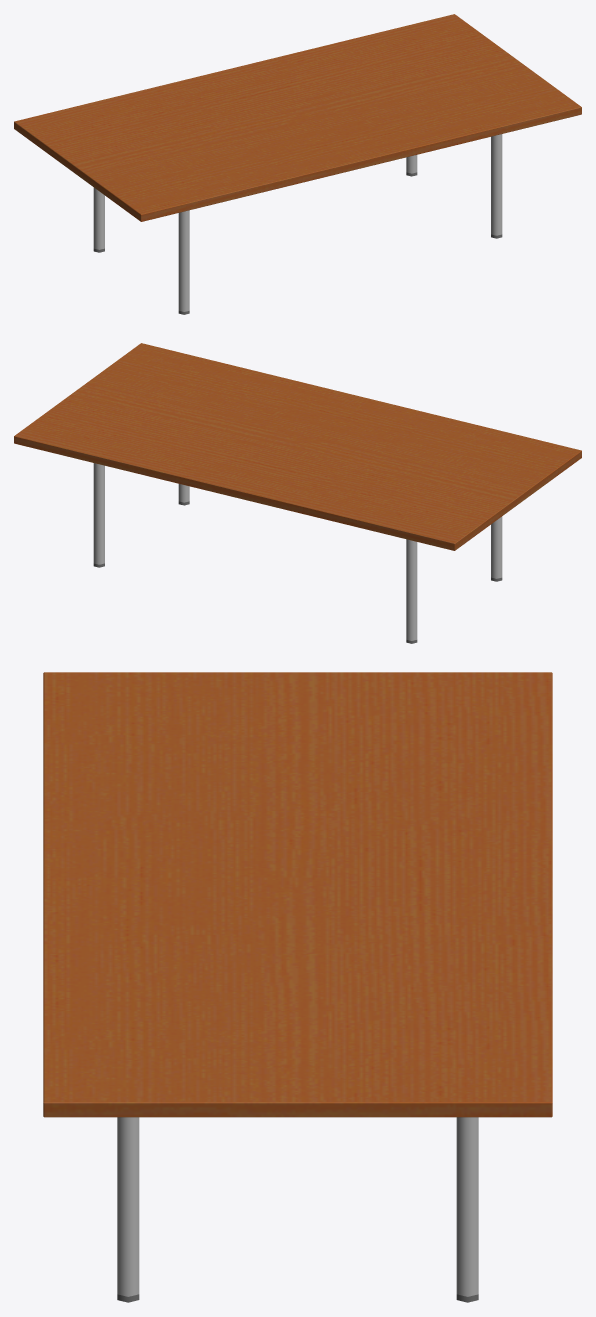
Rendered from table.gltf.
3 views of the same model, one above another, from view 1: azimuth 30°, elevation 25°; view 2: azimuth 150°, elevation 25°; view 3: azimuth 270°, elevation 25° (orthographic). The views are drawn at different scales.
Visible parts, largest first — view 1: 17_primitive, 16_primitive, 15_primitive, 1_primitive; view 2: 17_primitive, 14_primitive, 1_primitive, 16_primitive; view 3: 17_primitive, 15_primitive, 14_primitive.
Boxes of the visible parts, x1,y1,x2,y2 form: 17_primitive: (14,14,581,221); 16_primitive: (178,210,189,311); 15_primitive: (491,134,502,235); 1_primitive: (93,187,104,249); 17_primitive: (14,343,581,550); 14_primitive: (93,463,104,564); 1_primitive: (406,539,417,640); 16_primitive: (491,516,502,578); 17_primitive: (43,672,552,1117); 15_primitive: (117,1117,139,1296); 14_primitive: (456,1117,478,1296).
Bounding box in the file's own units: 2.4 × 0.67 × 1.2.
Materials: 17 (1 with a texture image).
